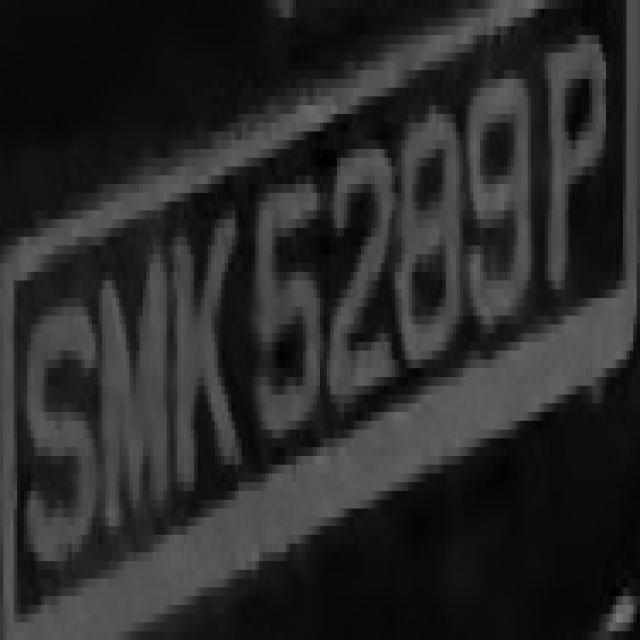2: (316, 140, 402, 430)
5: (245, 176, 327, 474)
8: (395, 105, 466, 412)
9: (453, 61, 538, 377)
K: (157, 202, 245, 508)
M: (88, 228, 174, 544)
P: (534, 27, 620, 324)
S: (17, 272, 99, 596)
